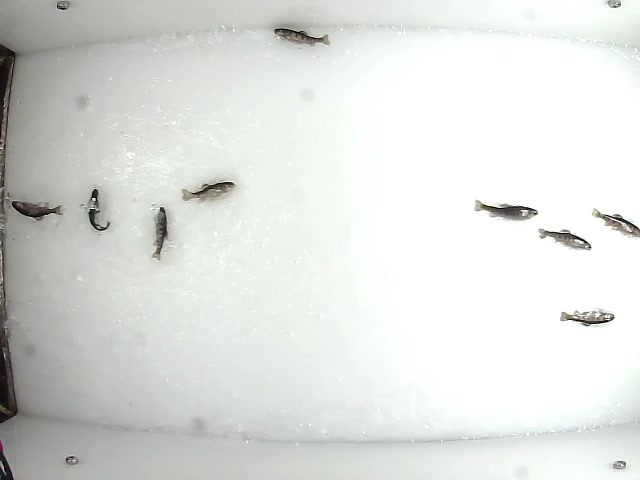fish: (473, 195, 538, 223), (590, 205, 640, 239), (271, 26, 331, 50), (8, 198, 65, 223), (536, 227, 593, 251), (178, 181, 237, 204), (147, 205, 170, 263), (86, 186, 113, 233), (558, 307, 615, 327)
